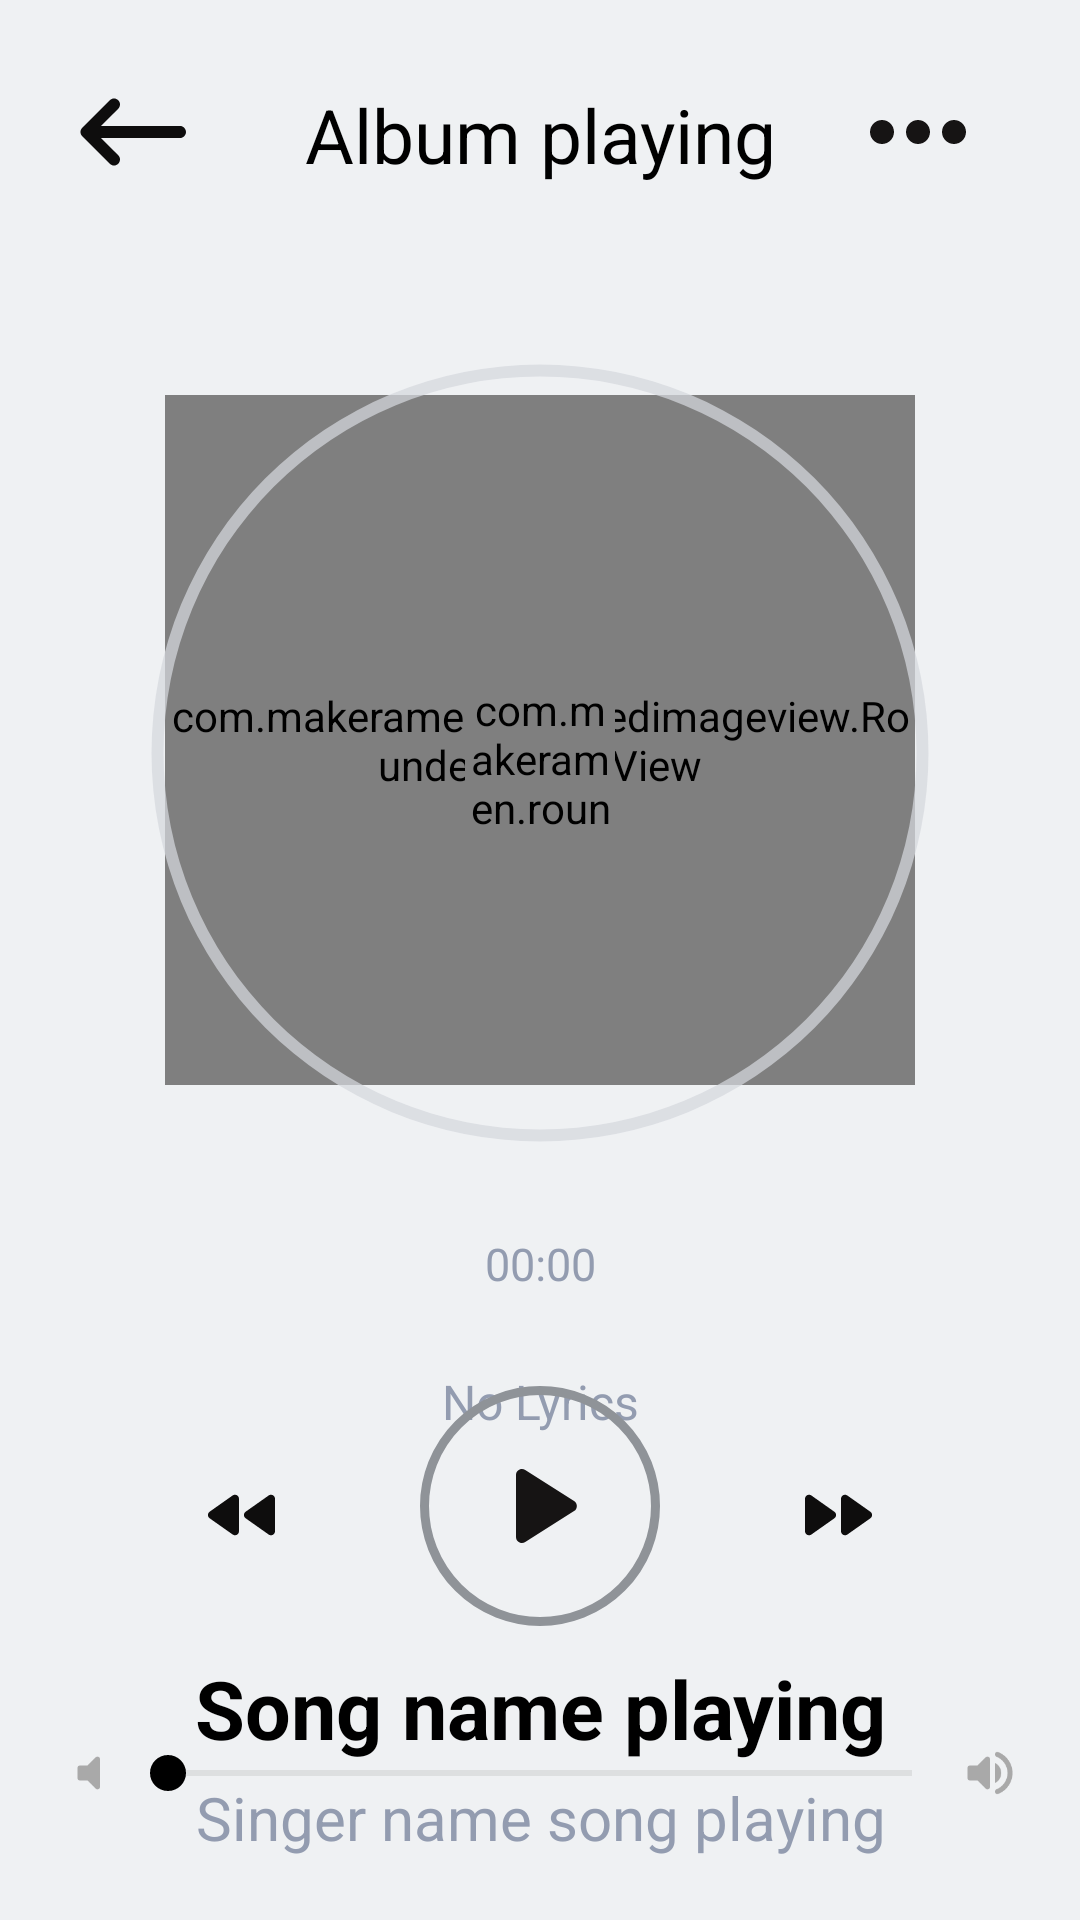

Icon bounding boxes for this 1080x1920 phone screenshot, format (x1, y1, x2, y2):
back: (80, 98, 186, 166)
more horiz: (870, 120, 966, 144)
Next: (805, 1494, 872, 1536)
Previous: (208, 1494, 275, 1536)
volume mute: (77, 1757, 100, 1789)
volume up: (967, 1752, 1013, 1794)
